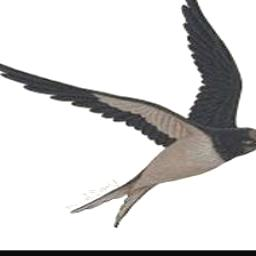Swallow: (0, 0, 256, 226)
